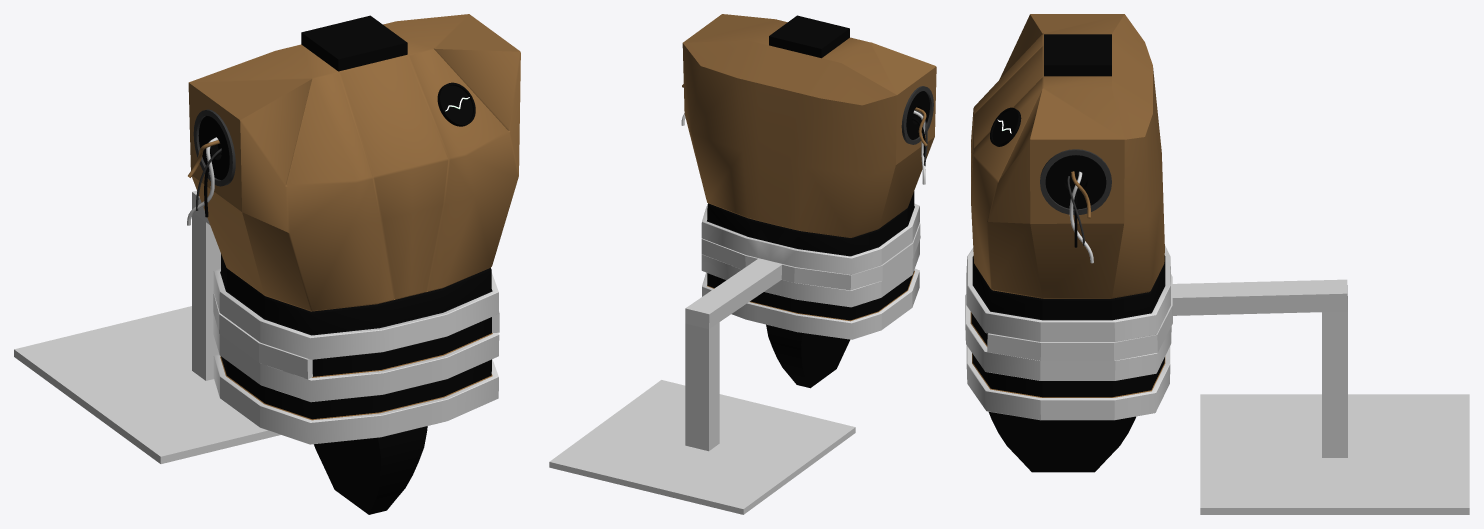
The model's file is Body.fbx.
3 views of the same model, side by side, from view 1: azimuth 30°, elevation 25°; view 2: azimuth 150°, elevation 25°; view 3: azimuth 270°, elevation 25° (orthographic). The views are drawn at different scales.
Parts seen in each view (by area): view 1: Body, Armature, Wires_right; view 2: Body, Armature, Wires_right; view 3: Body, Armature, Wires_left.
Boxes of the visible parts, <box> form: Body: <box>188,14,520,514</box>; Armature: <box>14,190,499,463</box>; Wires_right: <box>187,137,221,225</box>; Body: <box>682,14,936,388</box>; Armature: <box>549,223,920,514</box>; Wires_right: <box>912,107,927,184</box>; Body: <box>965,14,1171,472</box>; Armature: <box>987,274,1469,514</box>; Wires_left: <box>1067,171,1093,263</box>.
Bounding box in the file's own units: 0.4722 × 0.6421 × 0.7003.
